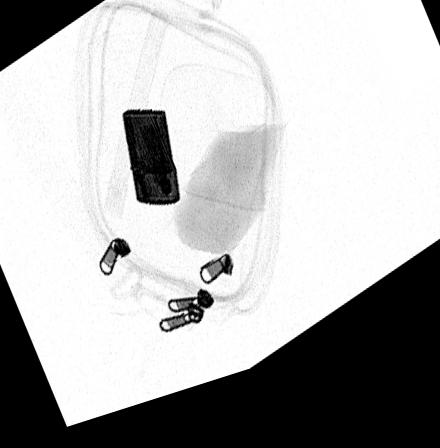Lighter: (122, 115, 181, 215)
